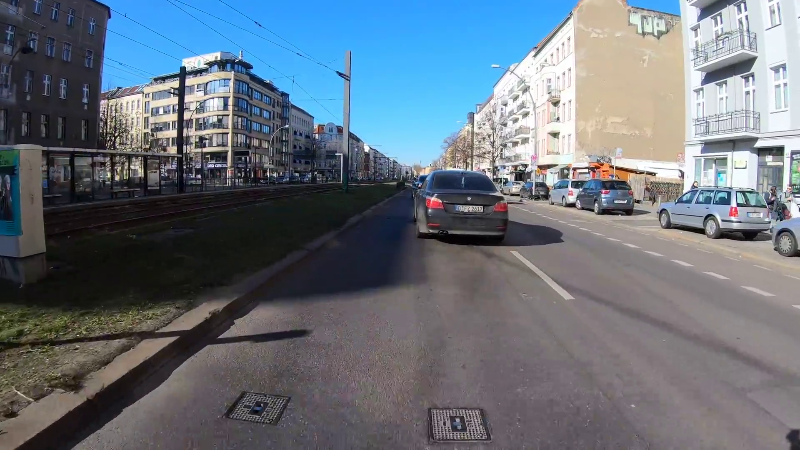Plate: (453, 202, 484, 212), (747, 212, 765, 217), (612, 198, 627, 204)
